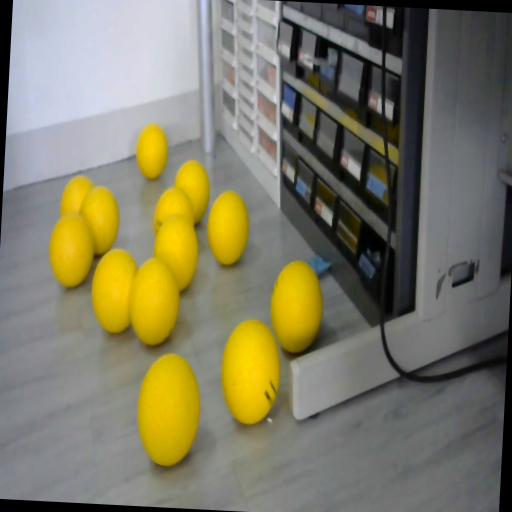FUEL: (134, 348, 204, 466), (218, 317, 284, 425), (268, 260, 324, 356), (90, 248, 138, 334), (151, 212, 201, 290), (46, 210, 96, 288), (206, 188, 250, 266), (172, 159, 212, 224), (135, 123, 169, 180), (60, 174, 95, 218), (342, 107, 360, 123)
